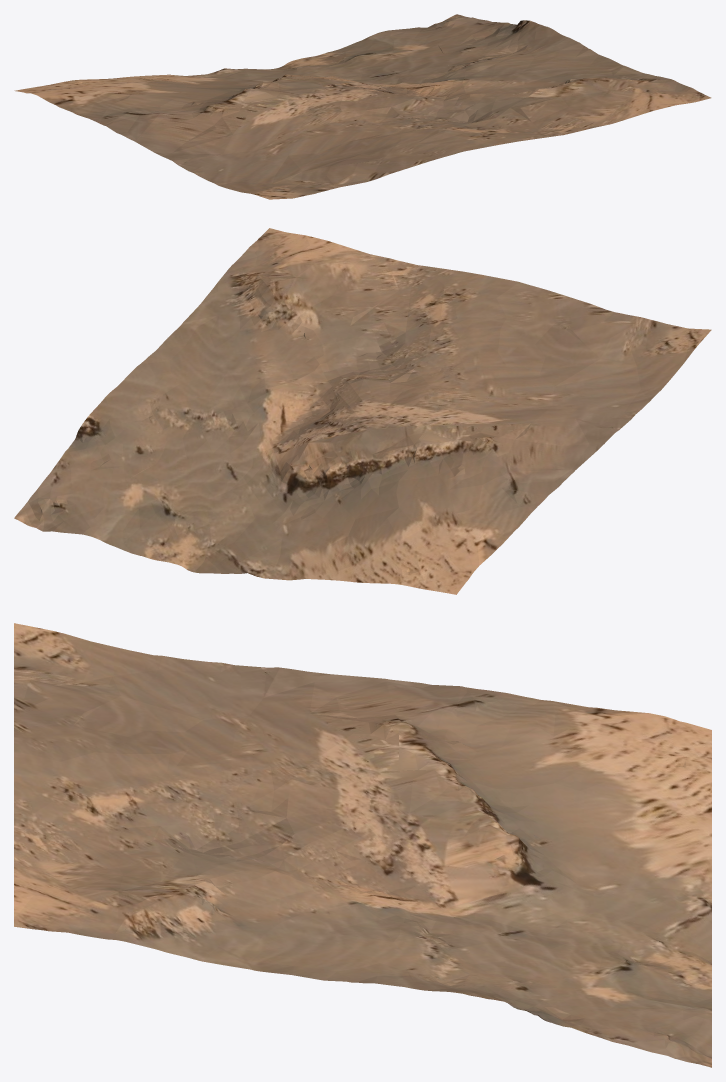
The picture shows the model from 3 angles, top to bottom: view 1: azimuth 30°, elevation 25°; view 2: azimuth 150°, elevation 25°; view 3: azimuth 270°, elevation 25°; orthographic projection. The views are drawn at different scales.
Bounding box in the file's own units: 2.09 × 0.5434 × 2.09.
Materials: 2 (2 with a texture image).
